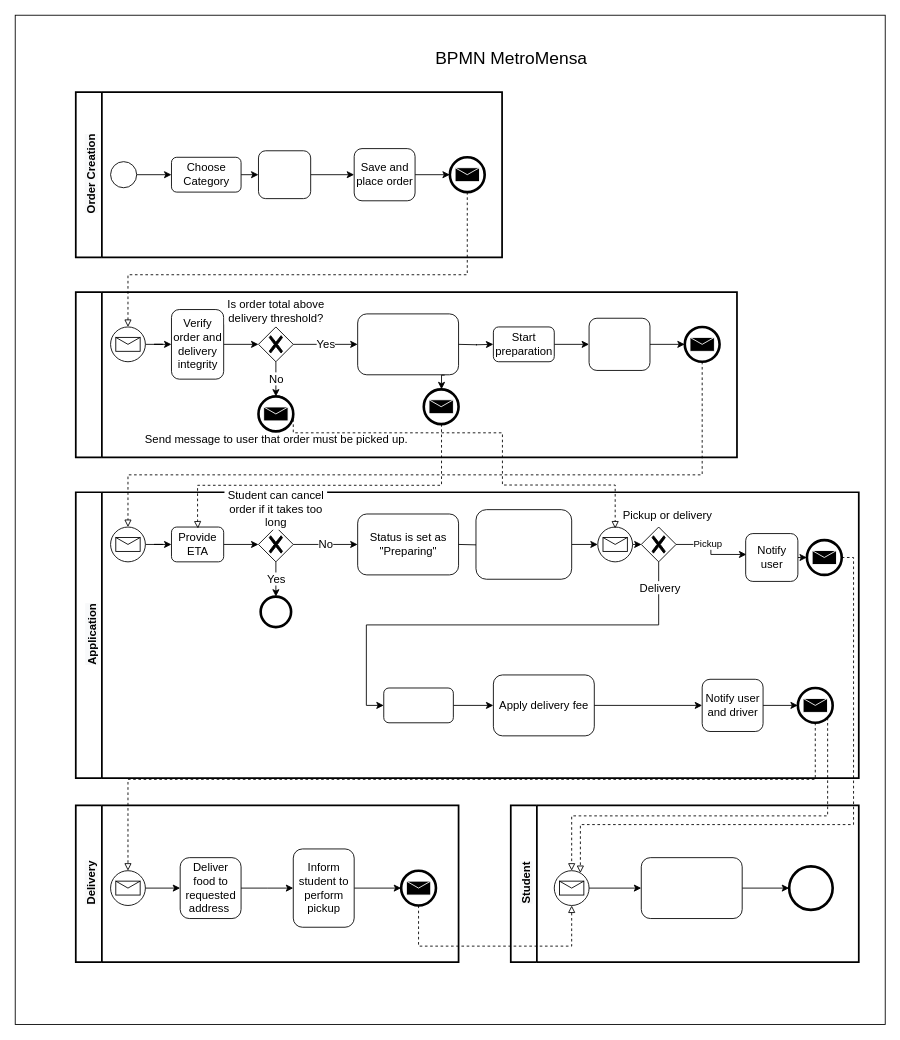
Some shapes in this 900 by 1040 pixel diagram are drawn without their labels. Here are the shapes that lost their labels. From the top down, the box of each, then its label:
(258, 150, 311, 199): Chose food and addons
(357, 313, 459, 375): Place order in the queue.
(588, 317, 650, 370): Order ready for delivery
(74, 291, 737, 458): Canteen Staff
(475, 509, 572, 579): Update inventory/add to order list.
(260, 596, 291, 627): Order Cancelled
(383, 687, 453, 723): Change order type
(640, 857, 742, 919): Order placement and delivery completed
